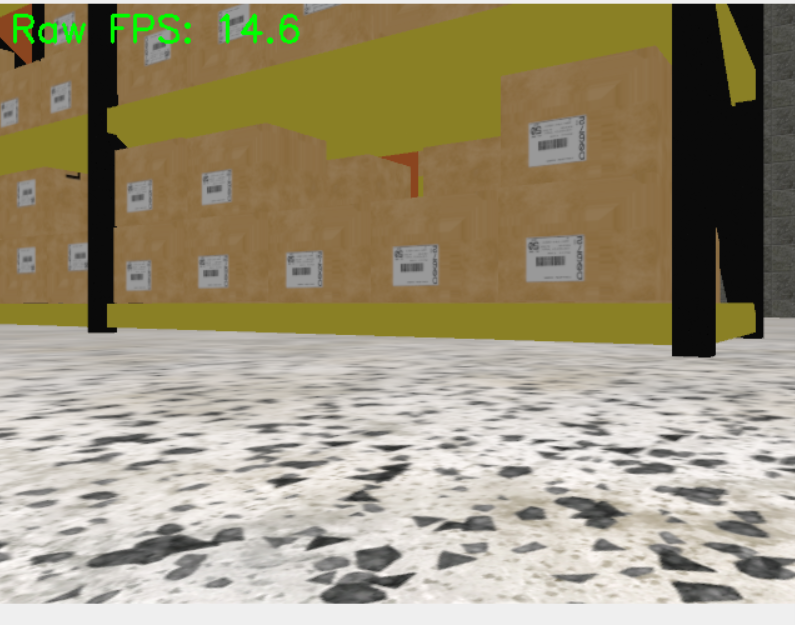barcode: (526, 115, 589, 168), (523, 233, 585, 283), (392, 243, 440, 288), (285, 250, 324, 289), (200, 170, 233, 205), (197, 255, 230, 288), (126, 179, 152, 211), (49, 81, 73, 114), (125, 260, 152, 289), (16, 180, 38, 209), (0, 96, 19, 129), (15, 246, 38, 273)
